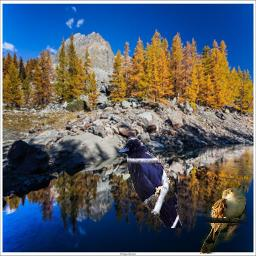Crow: (118, 138, 182, 229)
Cuckoo: (200, 188, 246, 254)
